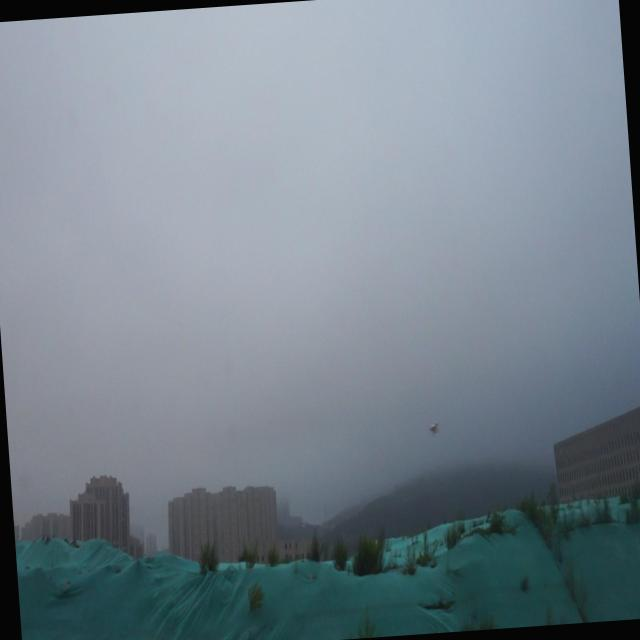drone: (425, 414, 444, 442)
